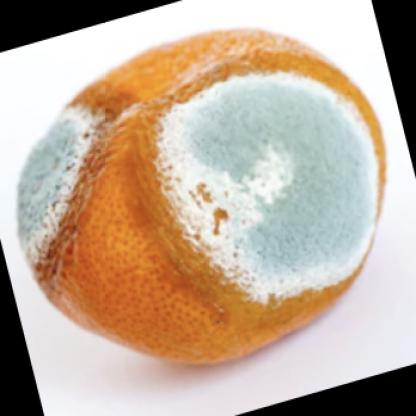rotten_orange: (16, 19, 390, 375)
